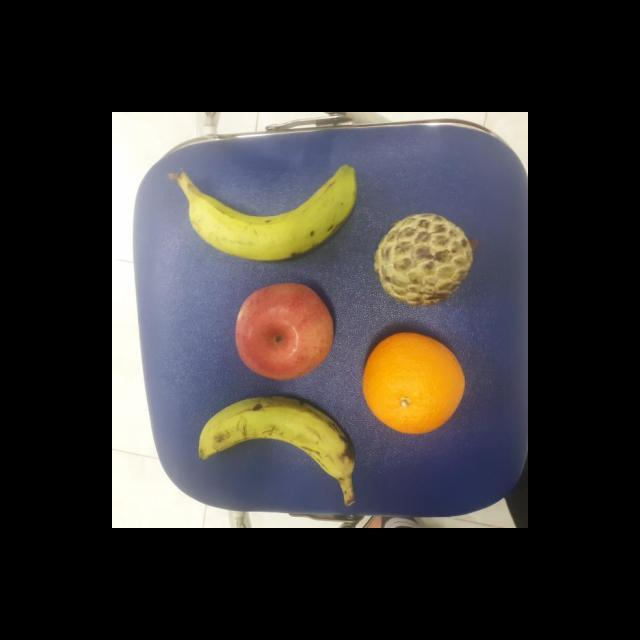Sakya fruit: (373, 210, 476, 308)
apple: (233, 280, 337, 381)
banana: (177, 164, 358, 264), (196, 393, 357, 488)
orange: (356, 330, 468, 435)
